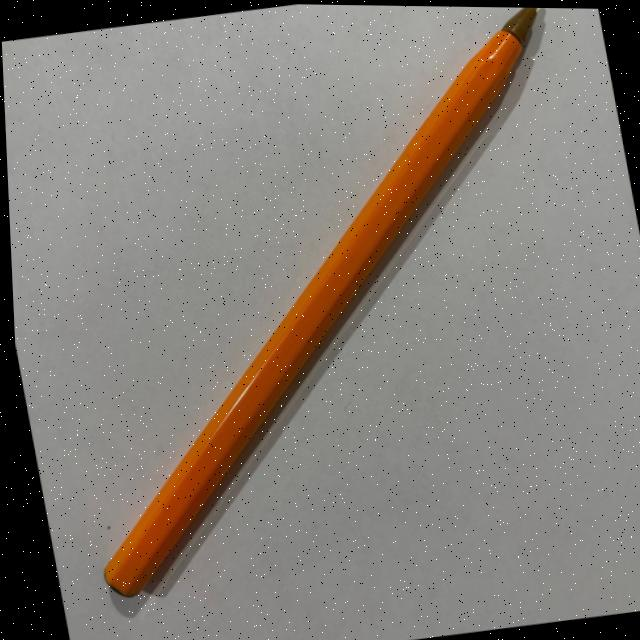pencil: (98, 6, 539, 598)
